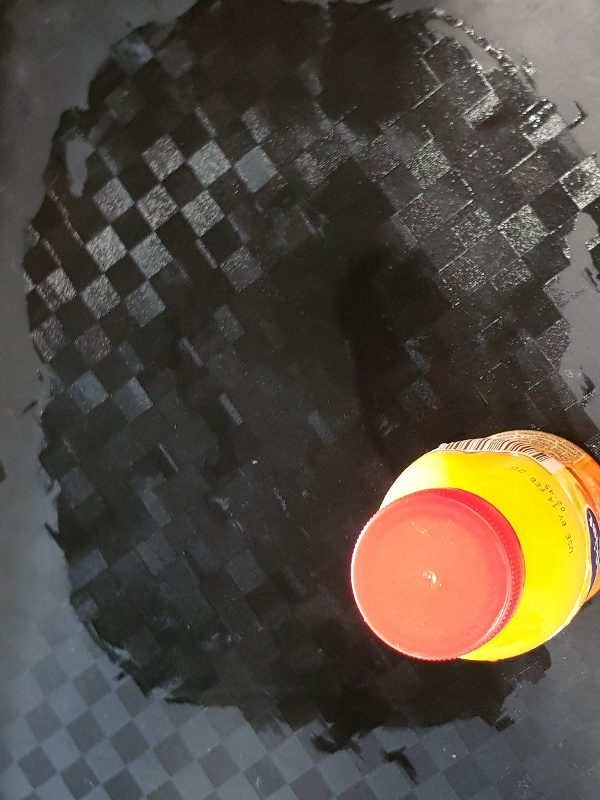Sunkist Orange Juice Drink: (345, 426, 600, 668)
